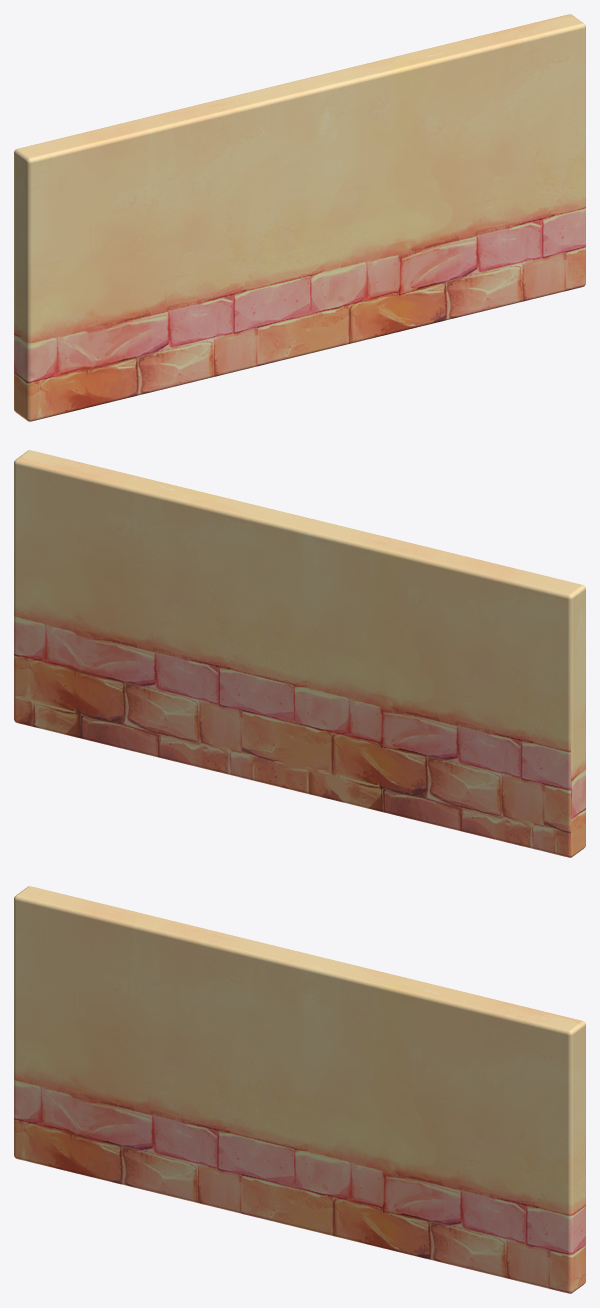
File: Pared_sin_ventana.fbx
3 views of the same model, one above another, from view 1: azimuth 30°, elevation 25°; view 2: azimuth 150°, elevation 25°; view 3: azimuth 330°, elevation 25° (orthographic).
Parts seen in each view (by area): view 1: Pared_sin_ventana; view 2: Pared_sin_ventana; view 3: Pared_sin_ventana.
Boxes of the visible parts, left/top/right/bottom form: Pared_sin_ventana: left=14, top=14, right=585, bottom=421; Pared_sin_ventana: left=14, top=450, right=585, bottom=857; Pared_sin_ventana: left=14, top=886, right=585, bottom=1293.
Size of the model in its own units: 1998 by 900 by 99.14.
